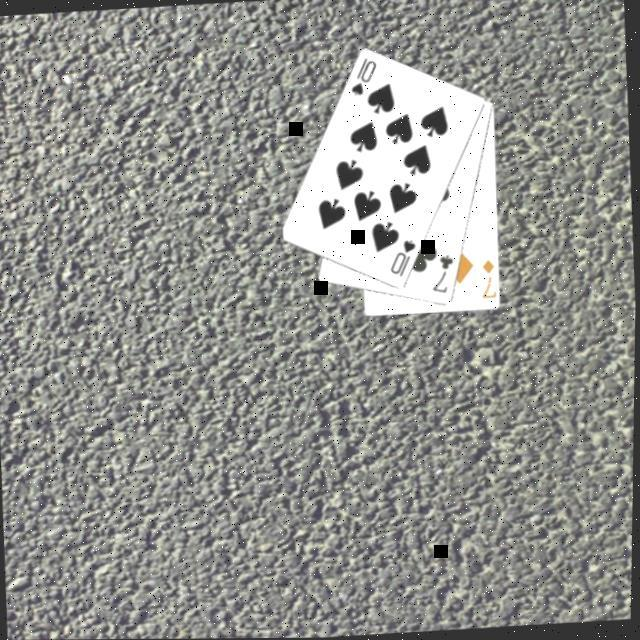10S: (384, 239, 420, 284), (345, 57, 380, 103)
7C: (426, 254, 457, 299)
7D: (476, 259, 497, 305)
